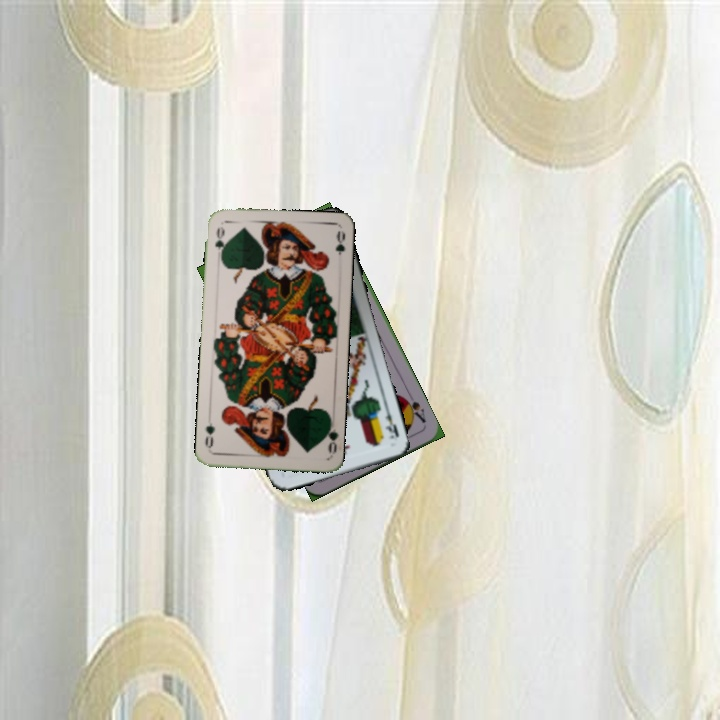EK: (381, 403, 402, 443)
GO: (320, 416, 340, 456), (211, 222, 228, 262)
SA: (399, 393, 429, 426)
